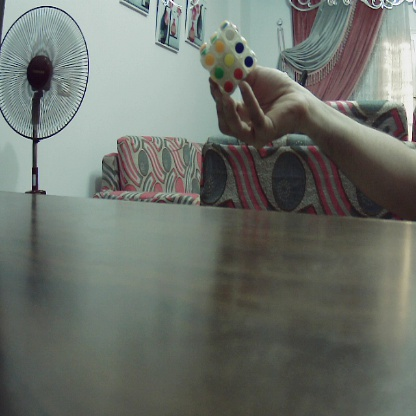Rubix Cube: (200, 20, 260, 97)
